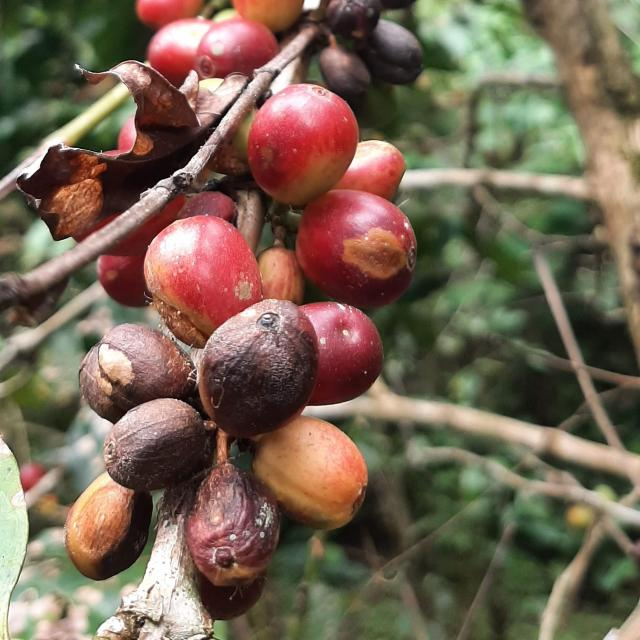green: (296, 189, 417, 308)
red: (198, 299, 319, 438), (186, 462, 279, 587), (78, 324, 195, 423), (64, 473, 152, 582), (103, 399, 206, 492), (301, 302, 383, 406), (194, 15, 279, 78), (146, 17, 214, 86), (362, 18, 423, 83), (320, 33, 371, 99), (97, 254, 149, 307)
yellow: (143, 215, 262, 348), (248, 83, 359, 205), (252, 417, 368, 531), (333, 140, 406, 200), (257, 245, 305, 305)
